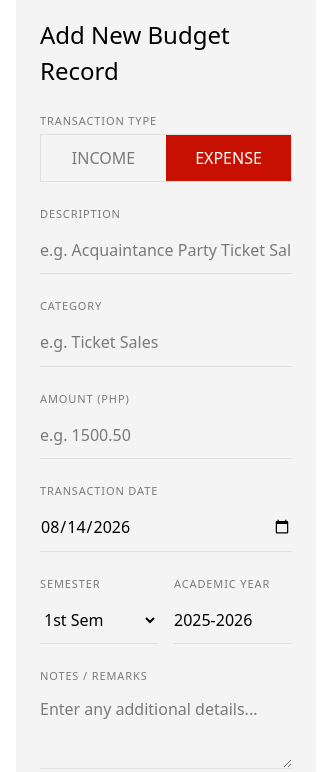
Test: EntryForm Component › renders server validation errors returned by action
This screenshot has width=333, height=772.
Type "a" into the field with test id "description-input" at point(166, 250), box [40,226,292,274]
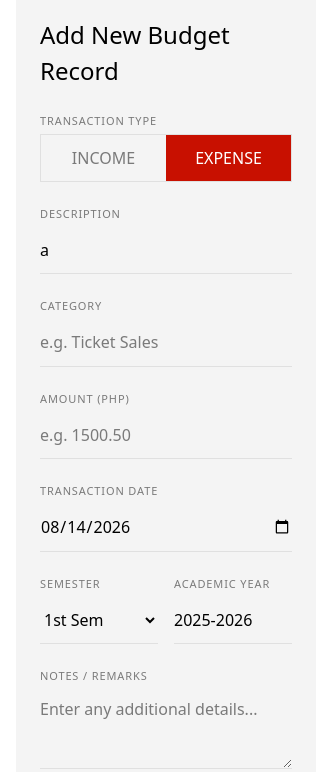
Type "Equipment" into the field with test id "category-input" at point(166, 342), box [40,318,292,366]
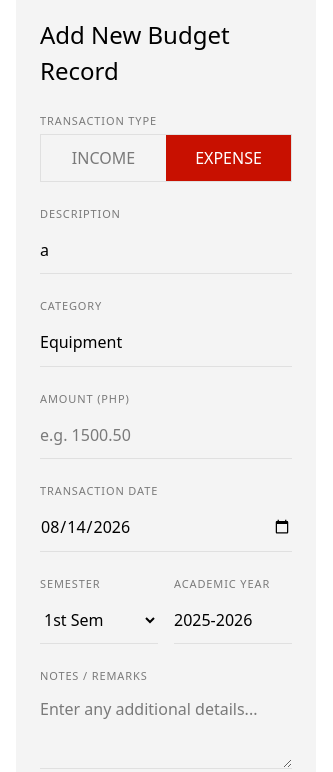
Type "15000" into the number field with test id "amount-input" at point(166, 435), box [40,411,292,459]
(page scrolled)
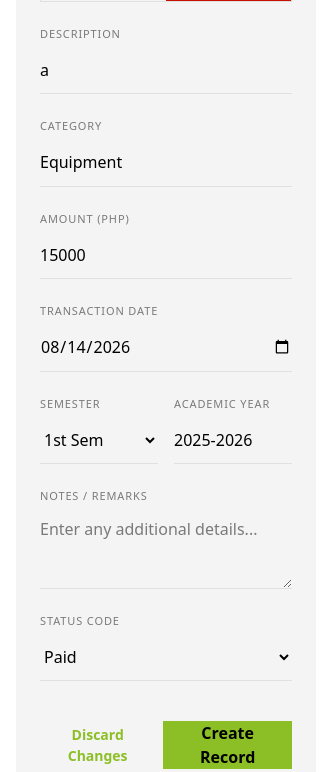
Click the button with test id "submit-form-button" at point(228, 745), box [163,721,292,769]
(page scrolled)
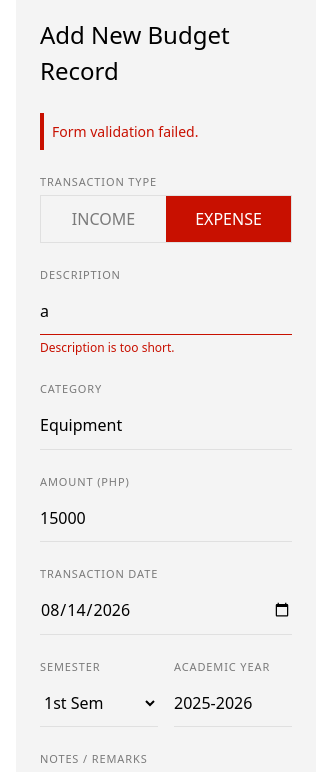
Expected: the text with test id "error-description" reads "Description is too short.", [40,339,175,356]
Expected: the message with test id "form-server-error" reads "Form validation failed.", [52,122,198,141]
